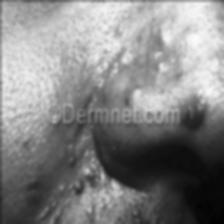Non-Cancerous Skin Condition: (20, 2, 220, 224)
